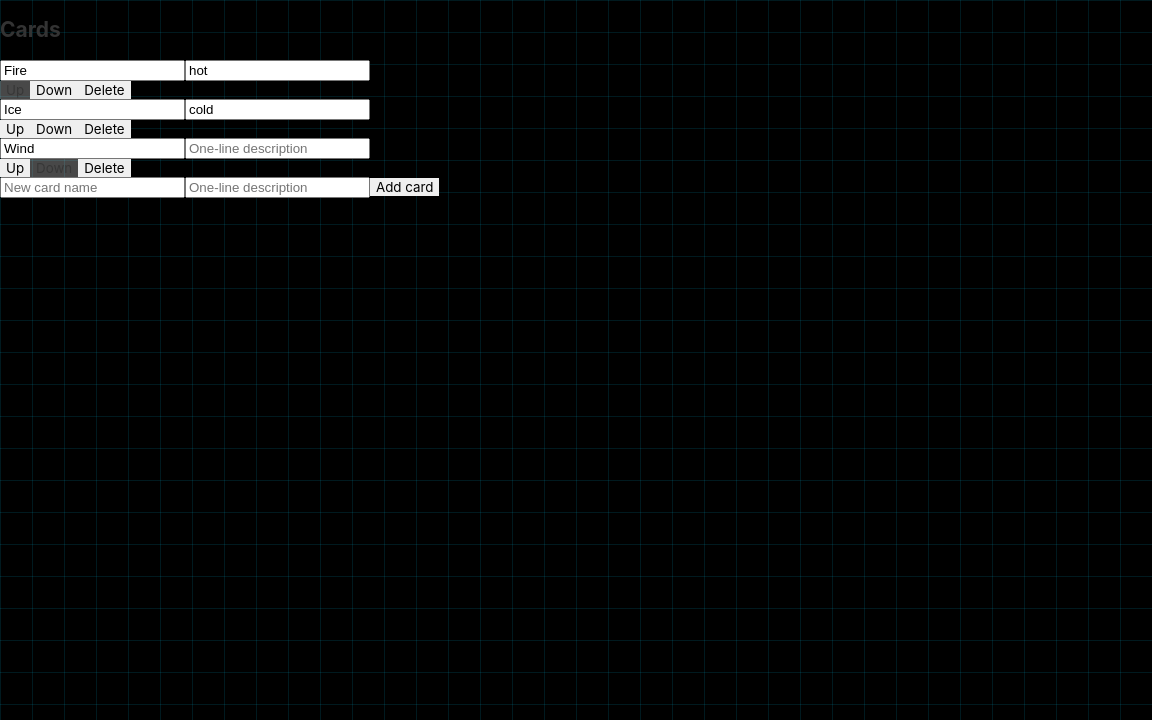
Scenario: CardList delete › ends the message with a period when no pair is filled
Click the 1st button "Delete" at {"x": 104, "y": 90}, box [78,81,131,99]
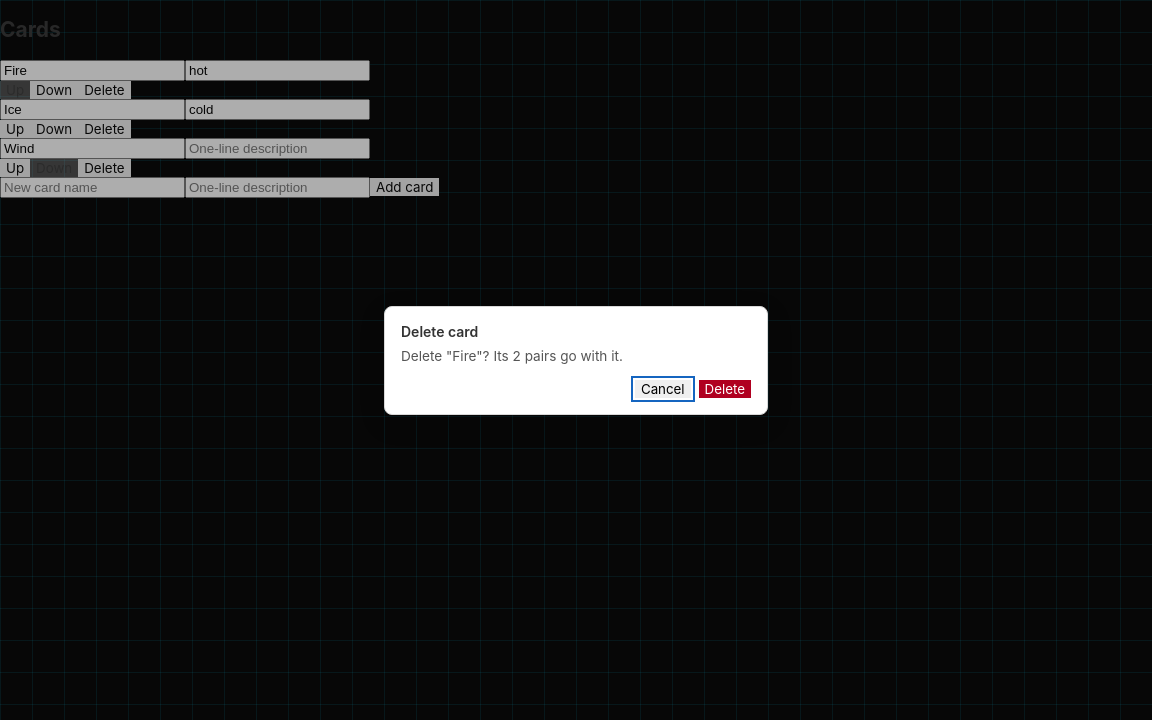
Expected: the dialog shows "Delete \"Fire\"? Its 2 pairs go with it.", [401,348,623,364]
